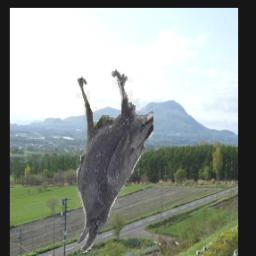Crow: (75, 70, 153, 254)
